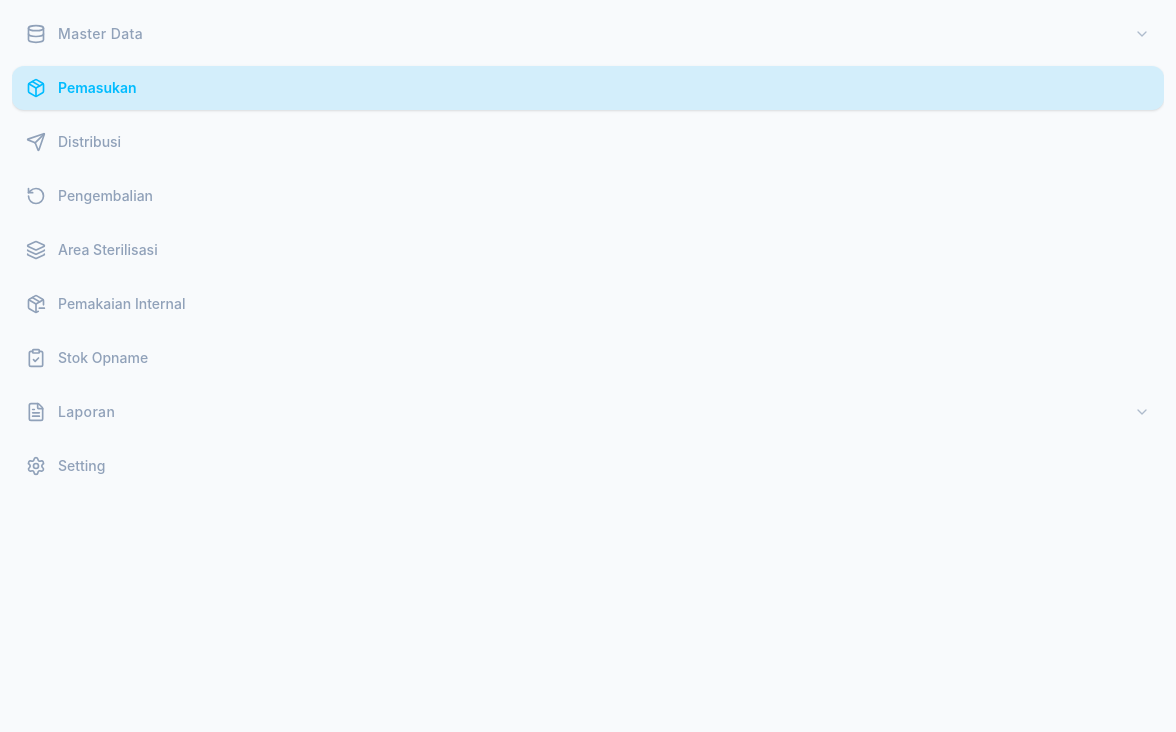
Test: SidebarNav › toggles the Master Data submenu when clicked
This screenshot has width=1176, height=732.
Expected: the text "Item" is not shown
Click the button "Master Data".
click(100, 34)  # box [12,12,1164,56]
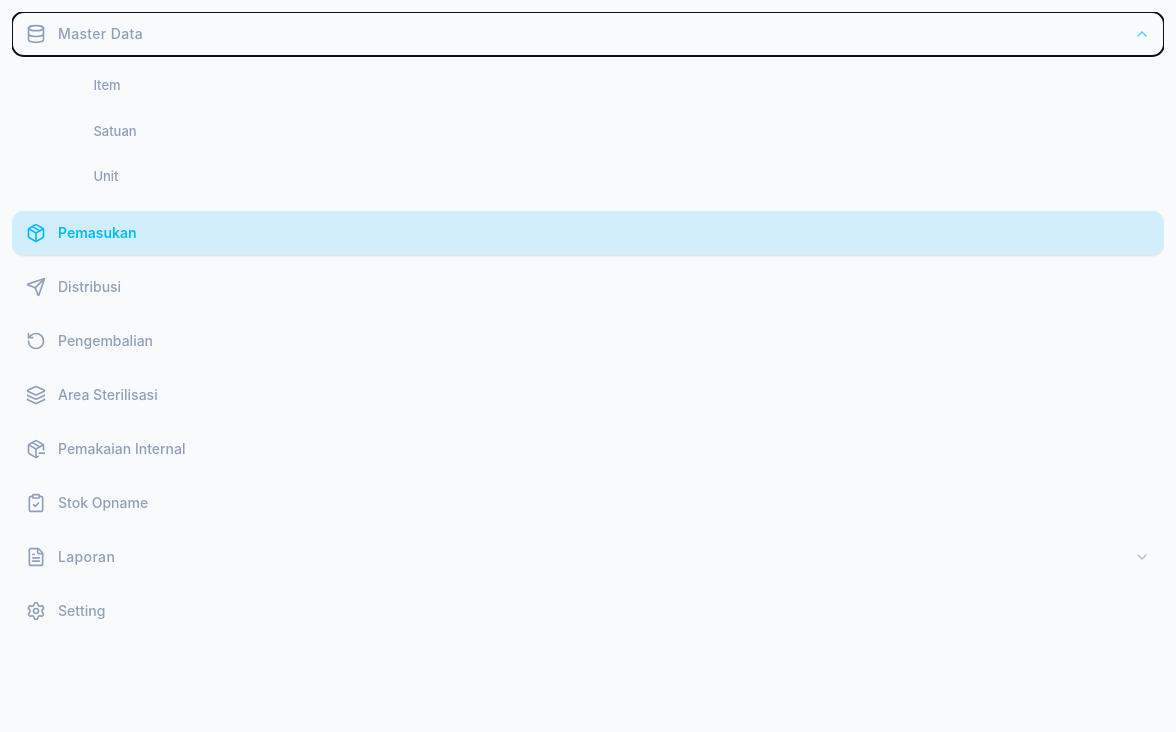
Expected: the link "Item" is shown, [93,77,121,93]
Expected: the link "Satuan" is shown, [93,122,137,138]
Expected: the link "Unit" is shown, [93,168,119,184]
Click the button "Master Data".
click(100, 34)  # box [12,12,1164,56]
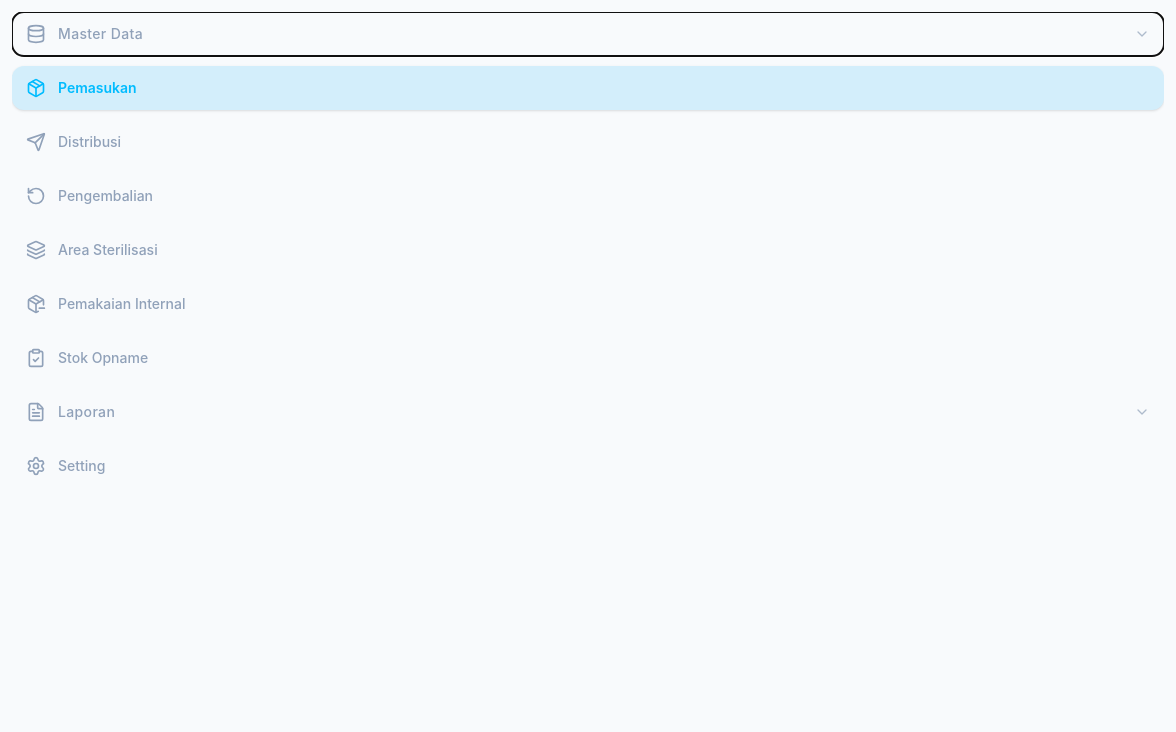
Expected: the link "Item" is gone
